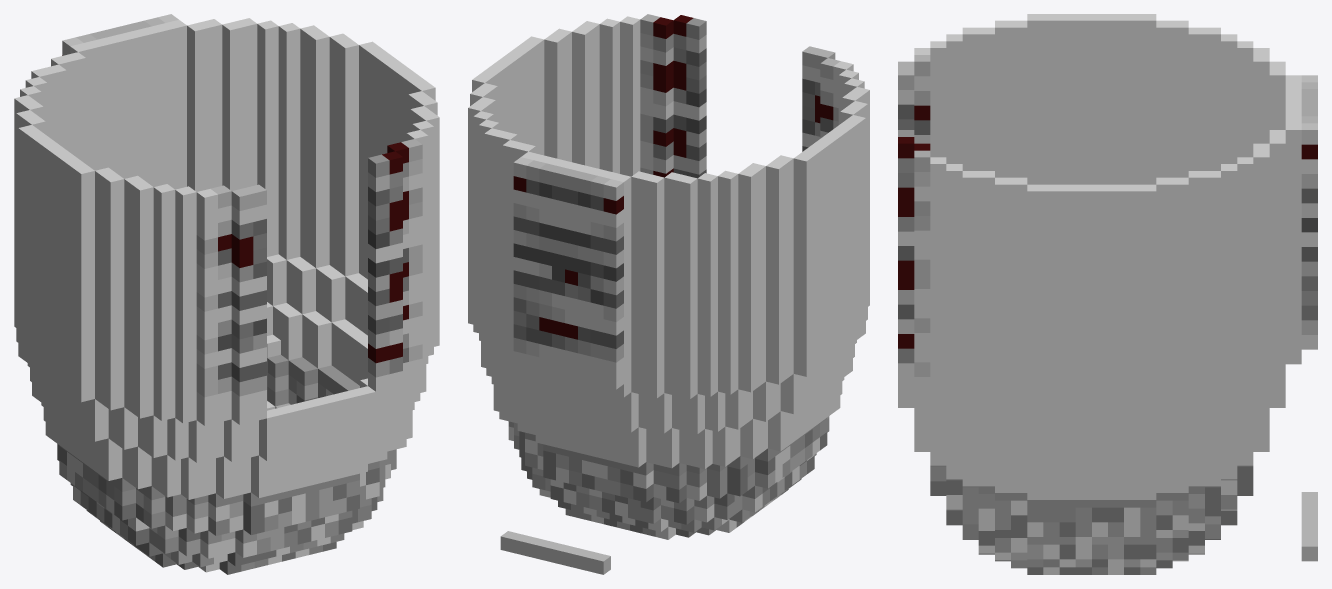
3 renders of one model, left to right at view 1: azimuth 30°, elevation 25°; view 2: azimuth 150°, elevation 25°; view 3: azimuth 270°, elevation 25°, orthographic. The views are drawn at different scales.
Size of the model in its own units: 1.3 by 1.45 by 1.3.
